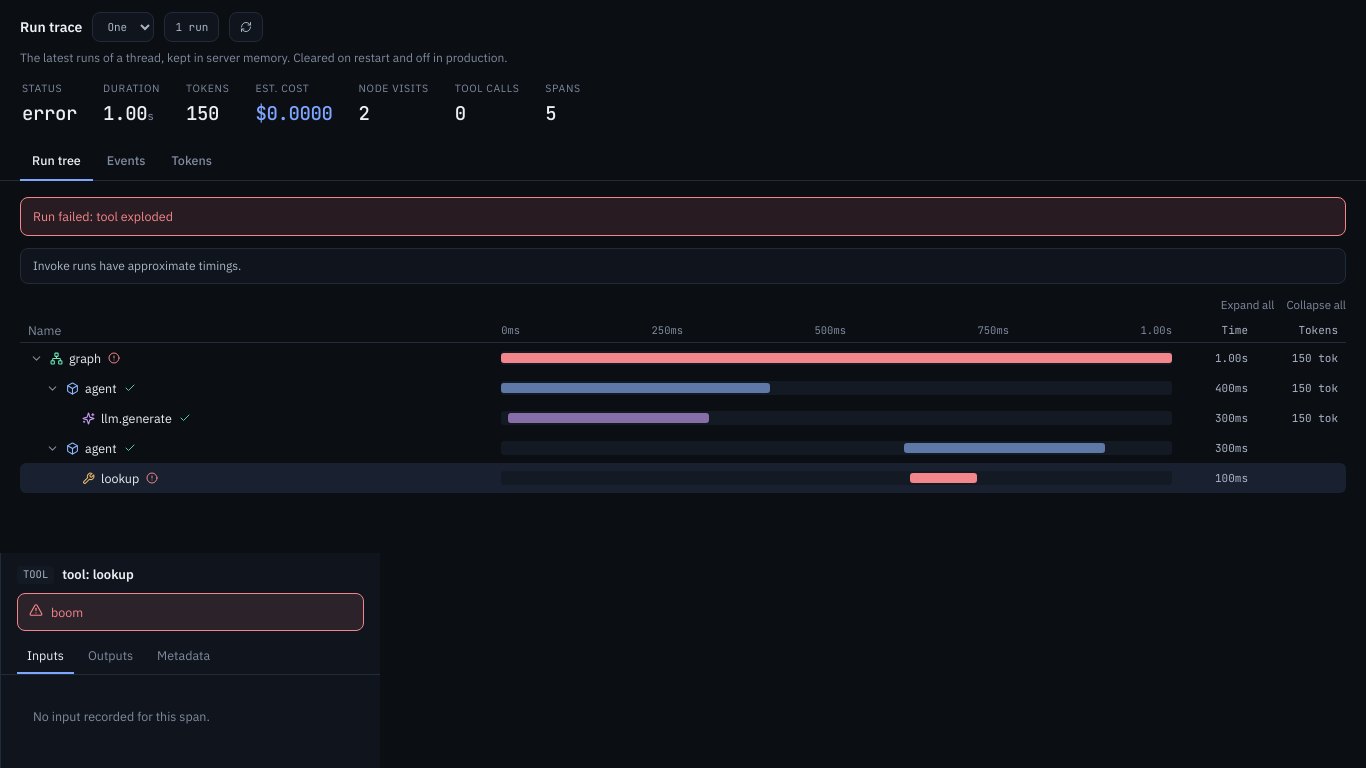
it: TracePage › collapsing a node hides its children
expect the element named "Run tree" is shown: met, box [20,343,1346,493]
expect the number of list items is 5: met, box [28,350,1338,366]; [44,380,1338,396]; [82,410,1338,426]; [44,440,1248,456]; [20,463,1346,493]
Click the button named "Collapse" in the row of "400ms" at (52, 388), box [44,380,60,396]
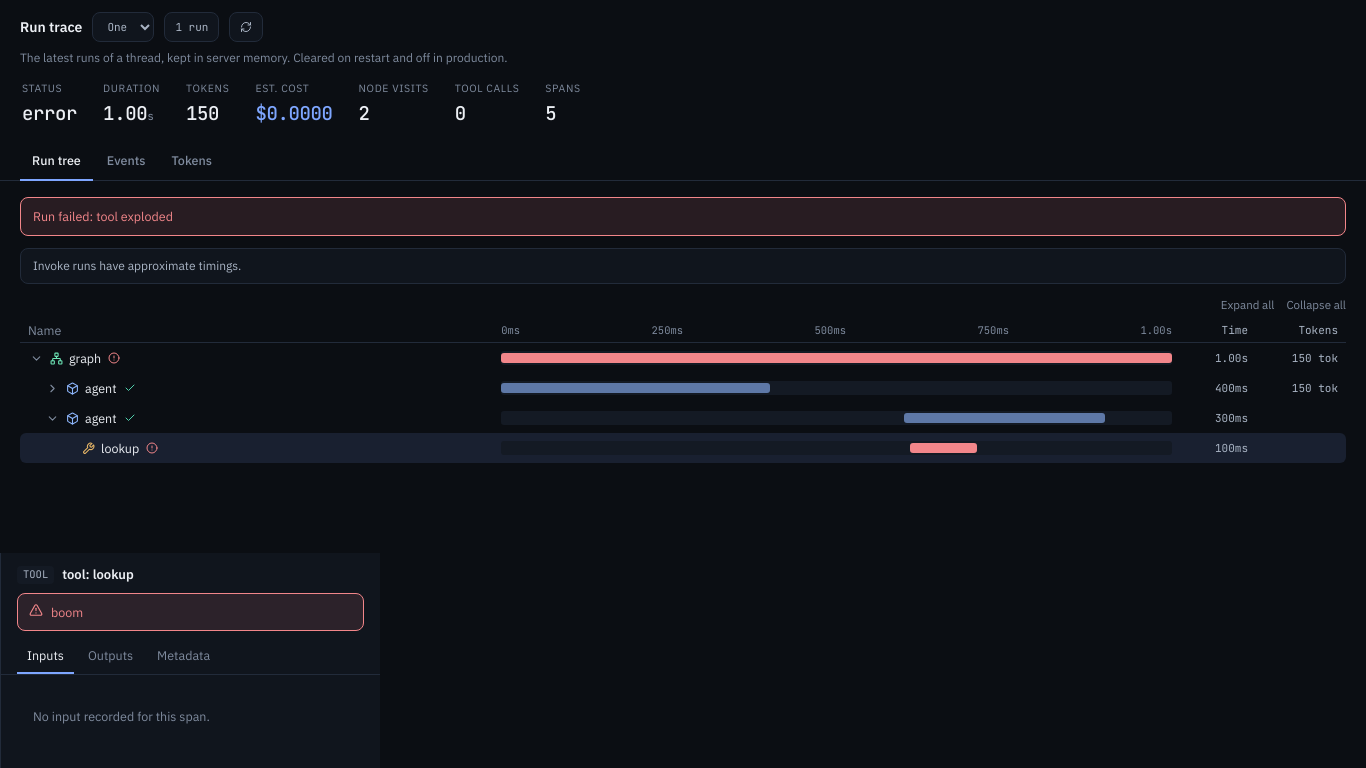
expect the number of list items is 4: met, box [28,350,1338,366]; [44,380,1338,396]; [44,410,1248,426]; [20,433,1346,463]
Click the button "Collapse all" at (1316, 304), box [1286,296,1346,313]
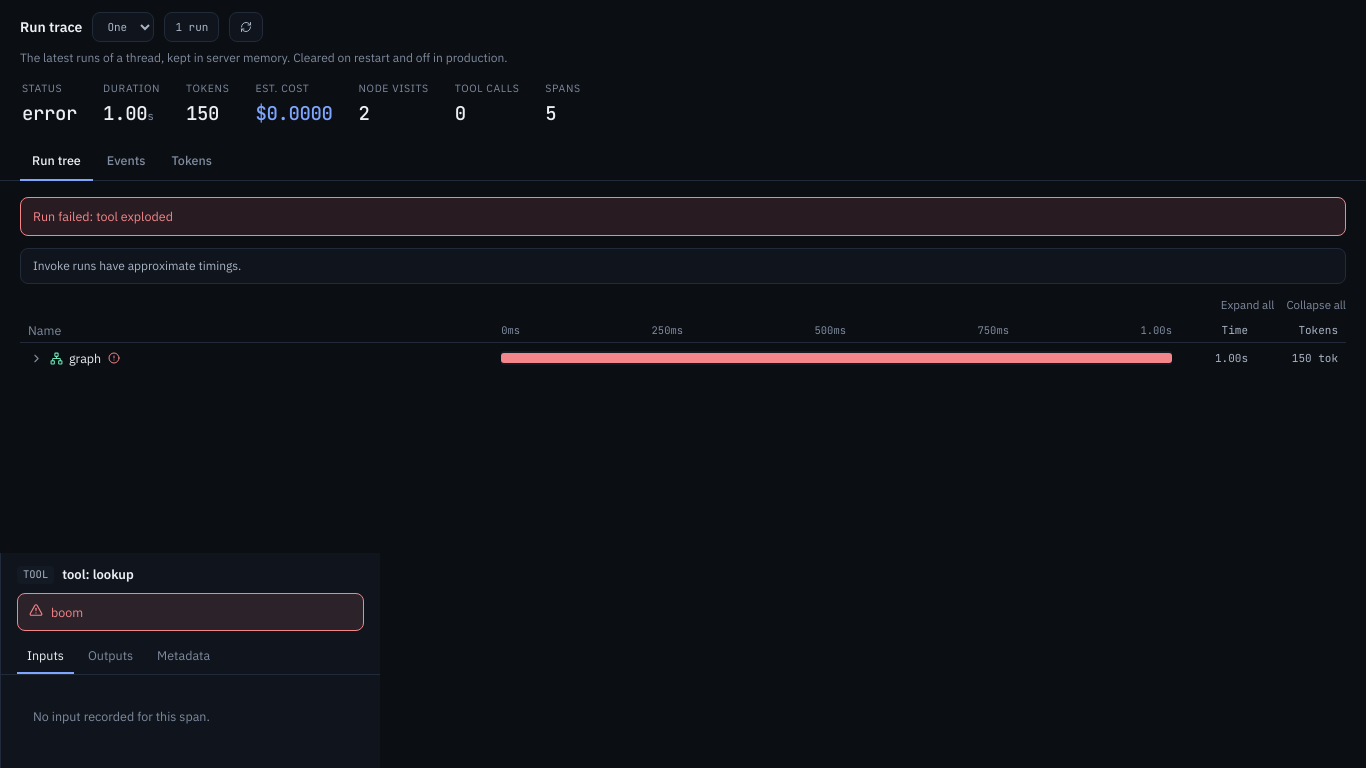
expect the number of list items is 1: met, box [28,350,1338,366]
Click the button "Expand all" at (1248, 304), box [1221,296,1274,313]
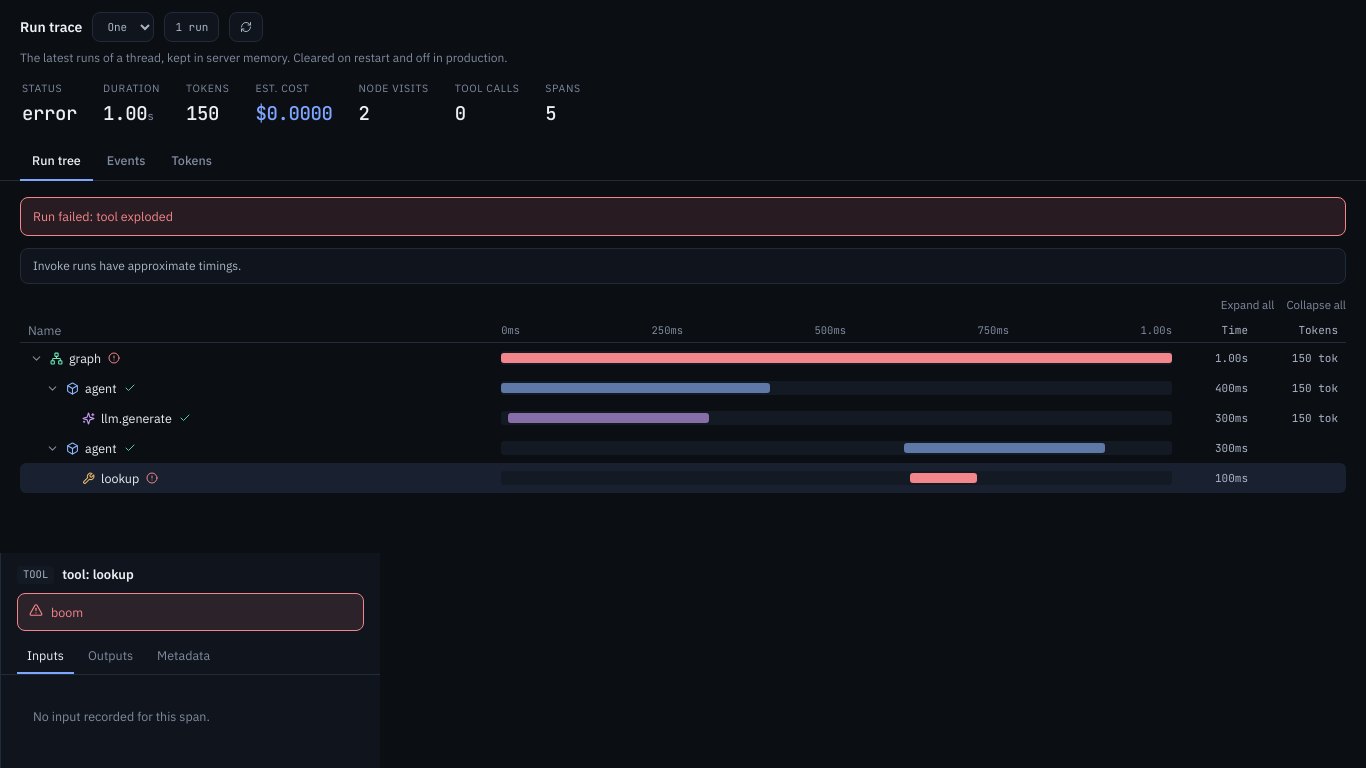
expect the number of list items is 5: met, box [28,350,1338,366]; [44,380,1338,396]; [82,410,1338,426]; [44,440,1248,456]; [20,463,1346,493]
